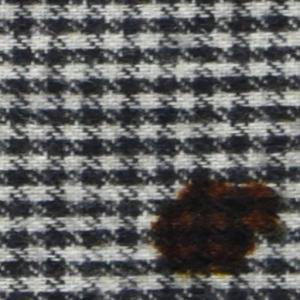Oil Stain: (145, 175, 287, 284)
